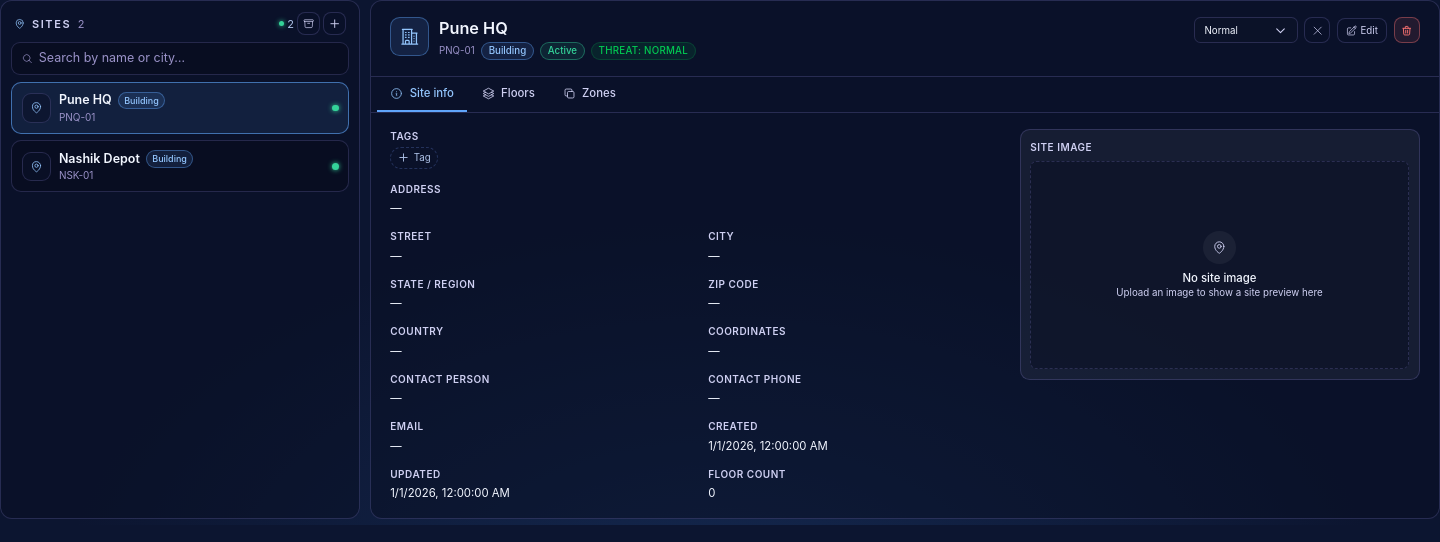
Test: which row is open › does not re-open a site the operator has explicitly closed
Click the button named "Close": click(1317, 30) [1304,17,1330,43]
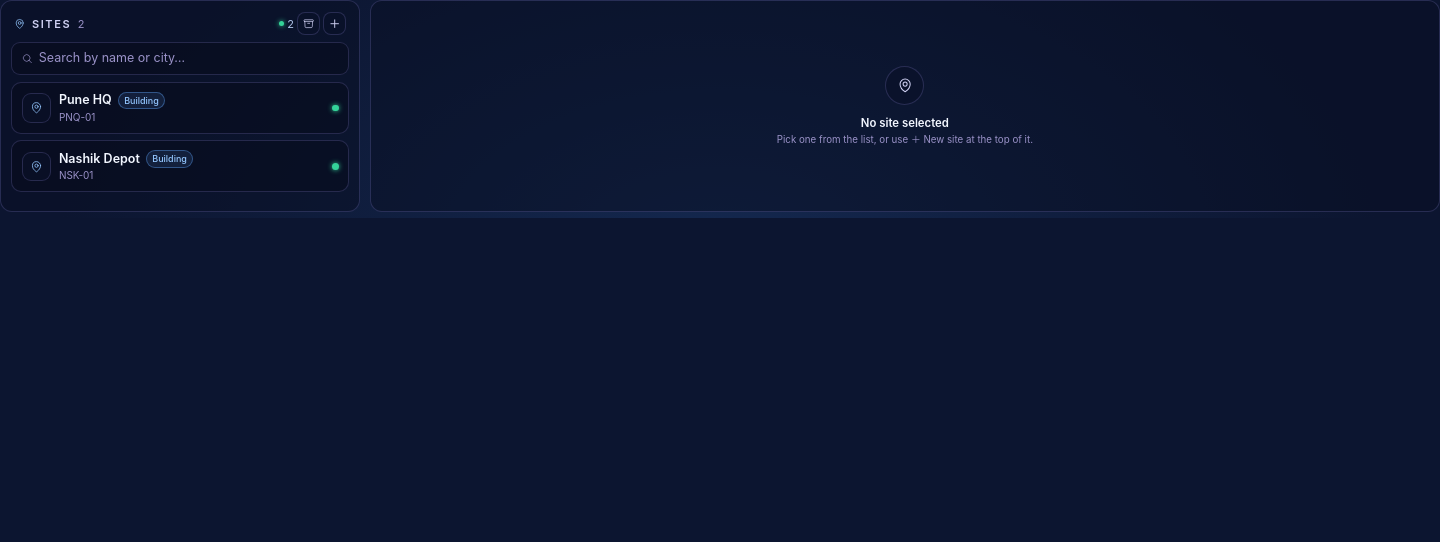
Expected: the text "No site selected" is shown, [861,115,949,131]
